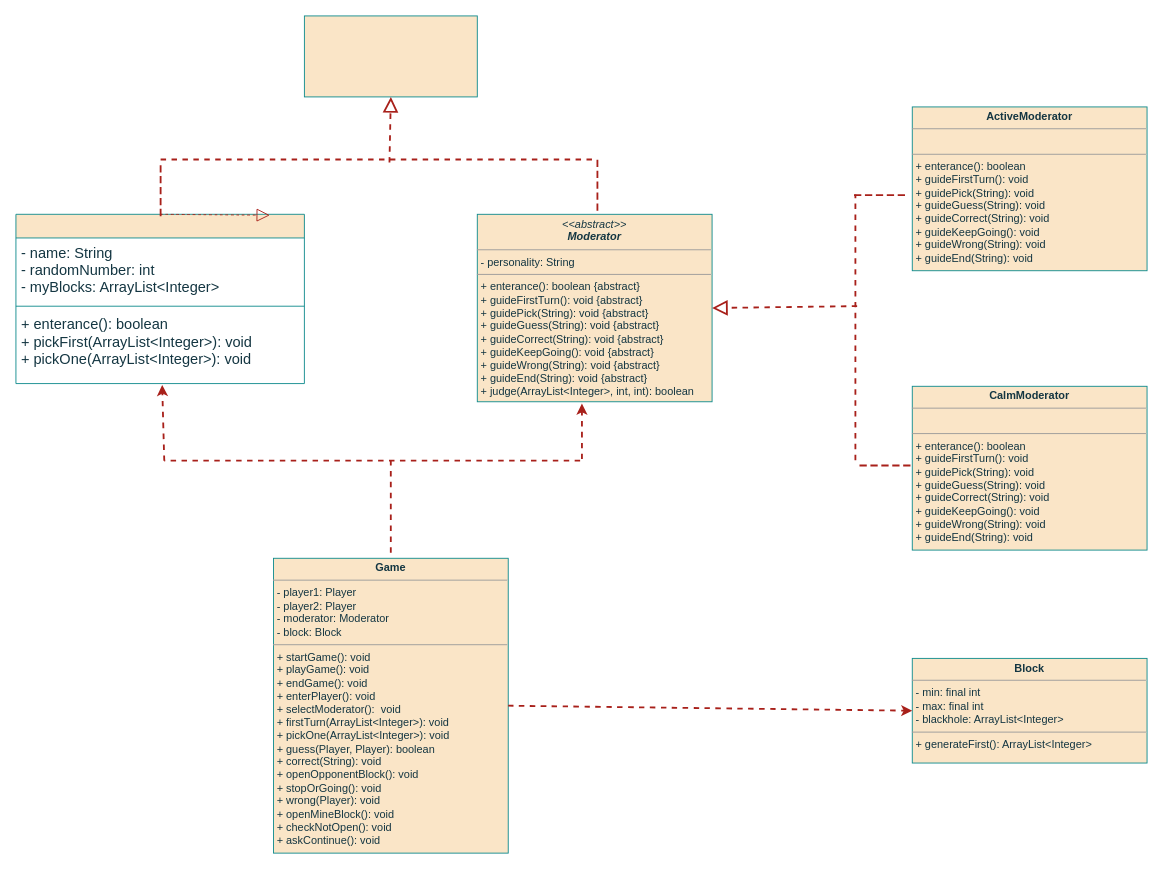
The diagram is 1163 pixels wide and 869 high, and some of its shapes have lost their labels. Each missing label, with the box of its shape:
<<Interface>> Person + enterance(): boolean: (303, 15, 477, 97)
Player: (15, 213, 304, 384)
